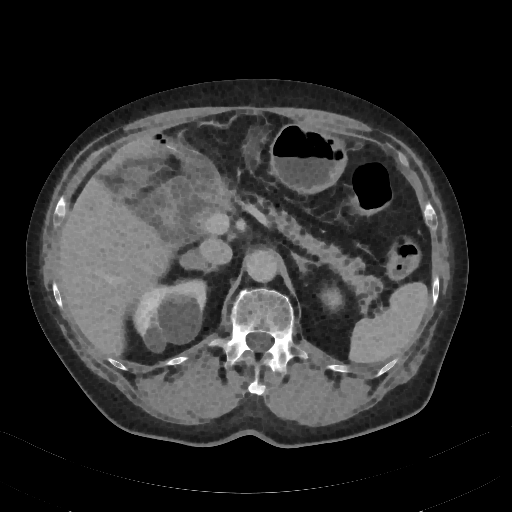Lesion: (141, 322, 167, 356)
